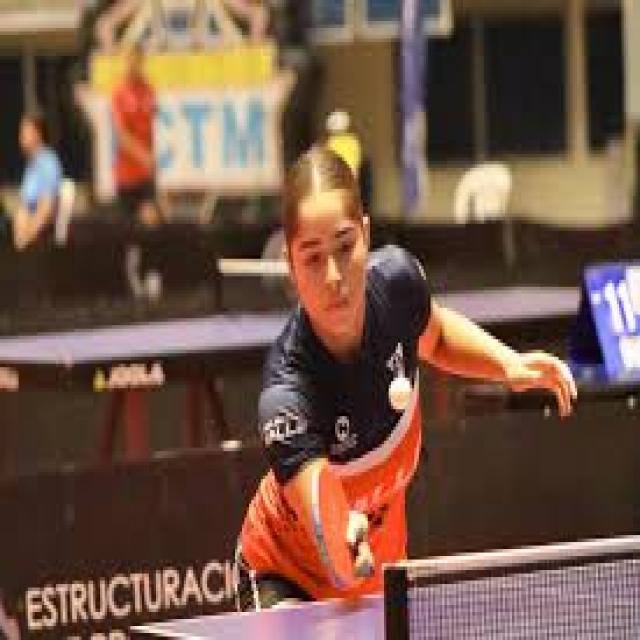TT Net: (381, 536, 638, 637), (213, 257, 429, 327)
TT Racket: (298, 452, 376, 602)
TT Table: (0, 282, 620, 365), (131, 556, 638, 637)
